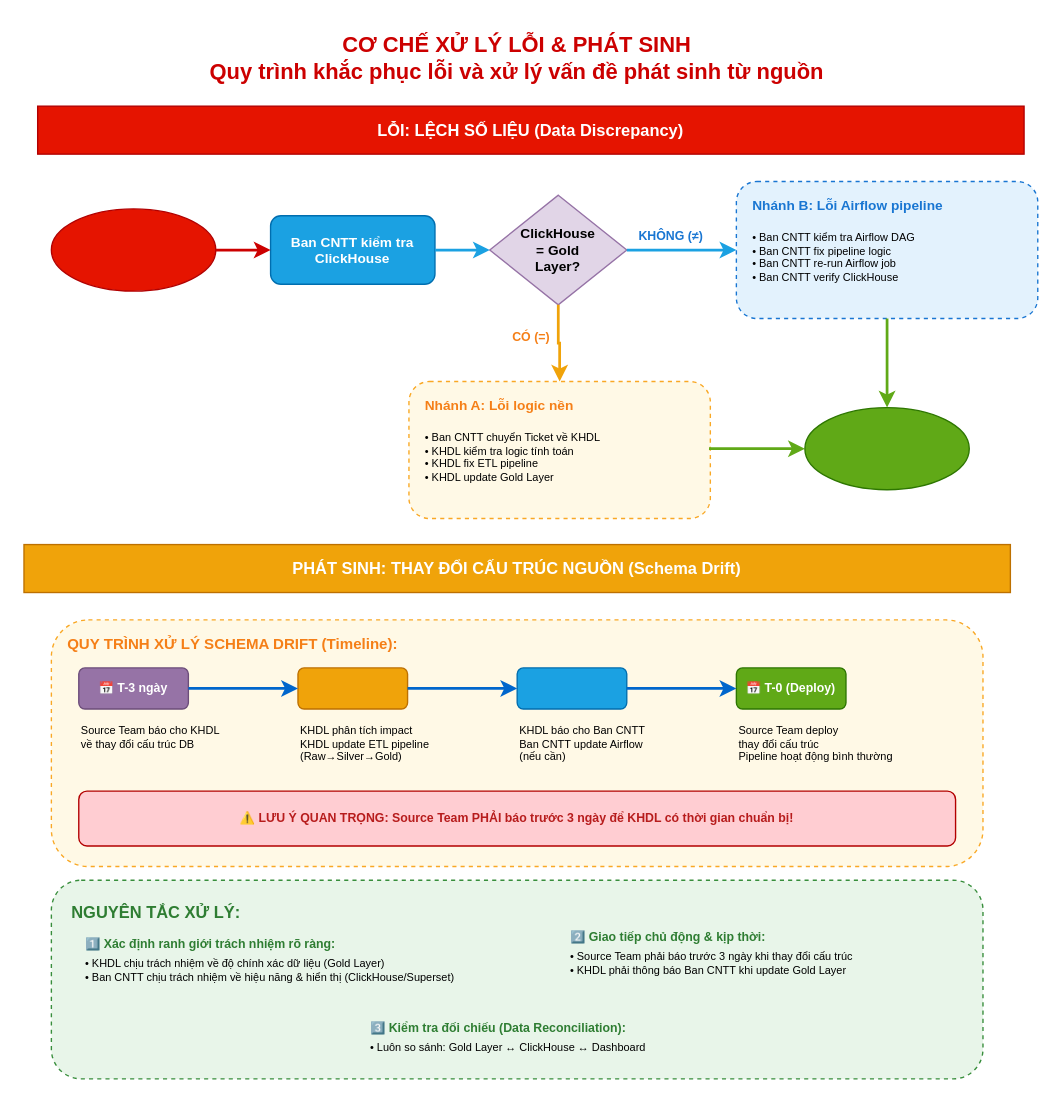
Some shapes in this 1062 by 1103 pixel diagram are drawn without their labels. The shapes that lost their labels are listed below. From the top down, each one's box as (x1, y1, x2, y2) in pixels, then its label:
(50, 208, 216, 291): 👤 Người dùng báo lỗi số liệu
(804, 406, 969, 490): ✓ Giải quyết Dashboard đúng
(297, 667, 408, 709): 📅 T-2 ngày
(516, 667, 627, 709): 📅 T-1 ngày
